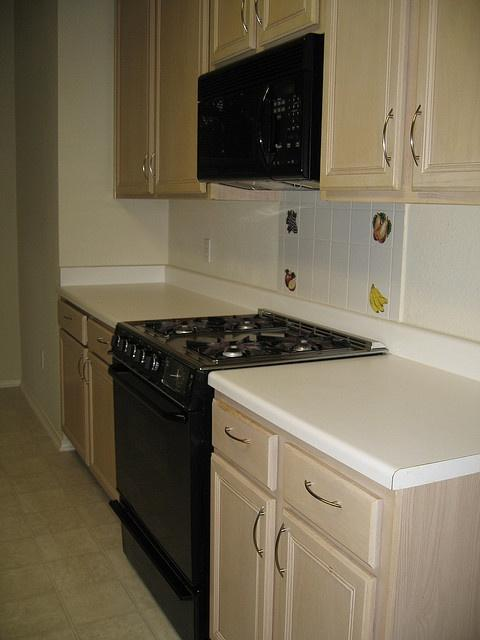Lemari: (209, 388, 394, 639), (316, 0, 479, 207), (112, 0, 209, 198), (57, 293, 117, 504)
